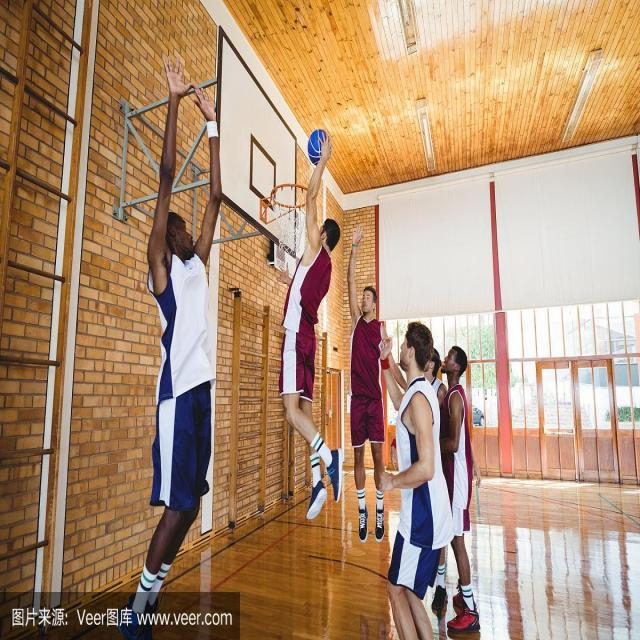rim: (308, 126, 329, 166)
